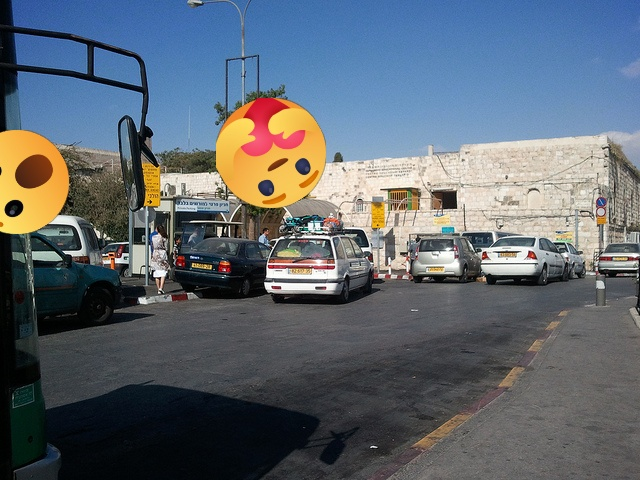care: (216, 98, 326, 208)
wow: (0, 130, 69, 234)
